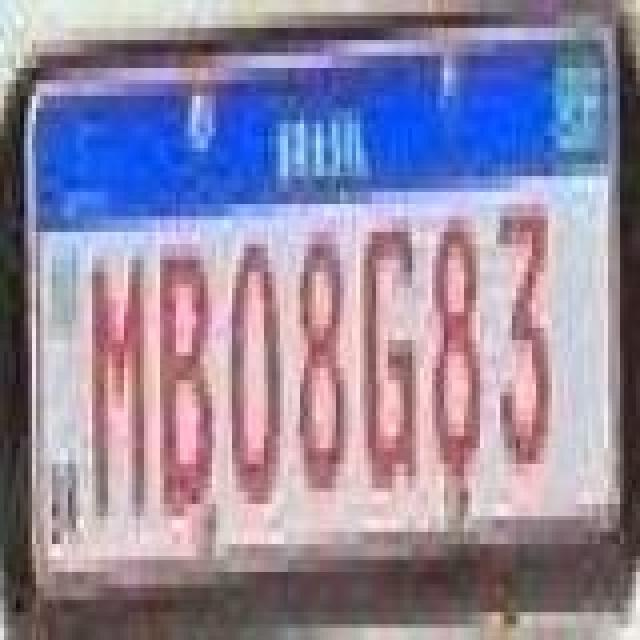3: (496, 196, 560, 484)
8: (428, 204, 484, 492), (292, 232, 348, 504)
B: (152, 240, 216, 528)
G: (360, 216, 424, 504)
M: (92, 244, 148, 532)
O: (224, 240, 280, 512)
